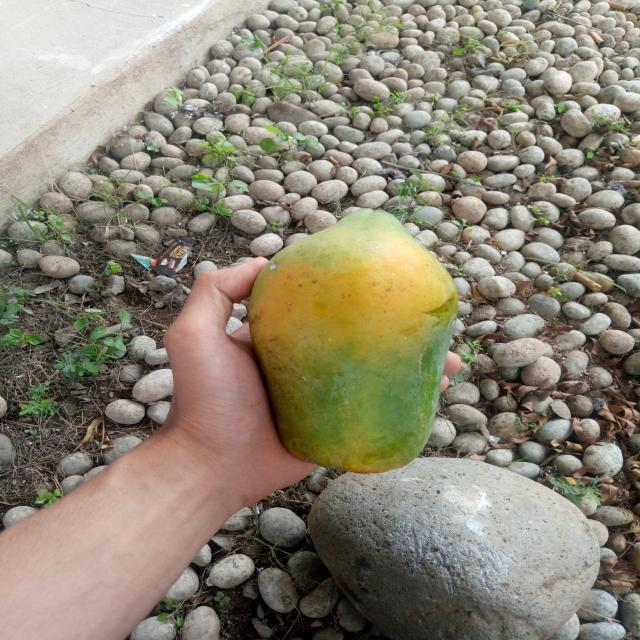Pepaya rippen: (244, 206, 464, 474)
